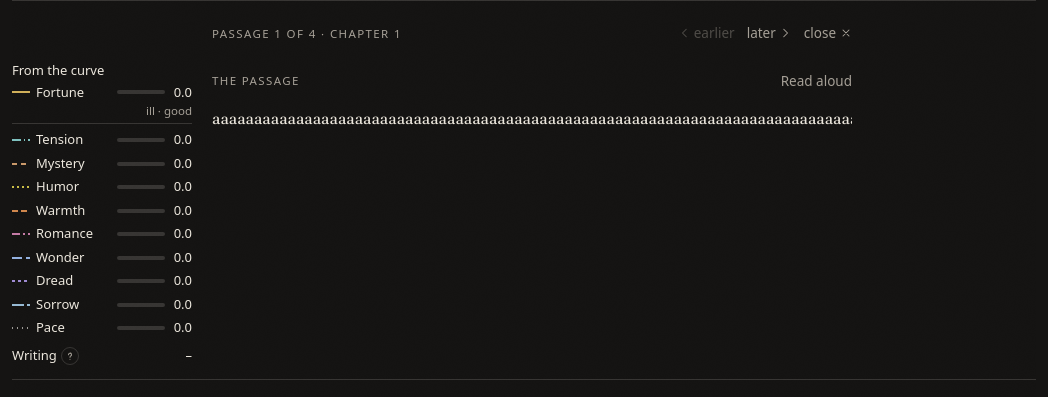
Test: a change in the passage's own controls does not write the text in again
Click the button "Read aloud": (816, 81) [781, 61, 852, 101]
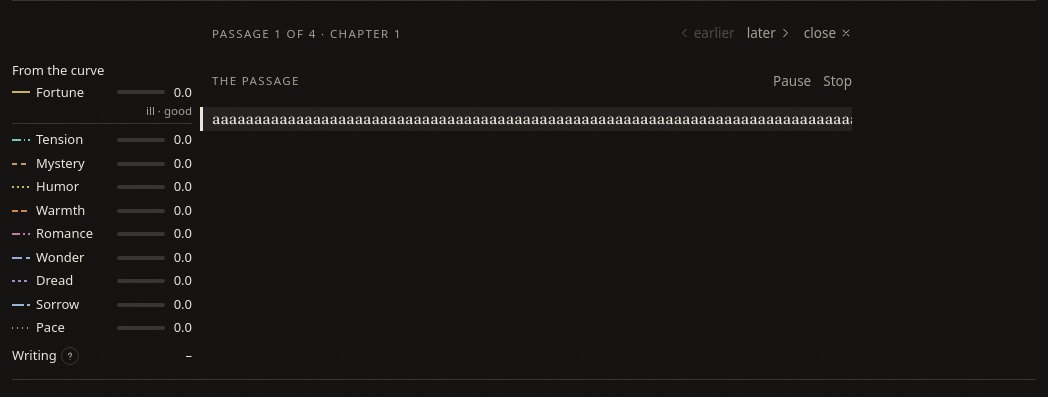
Result: the button "Pause" is shown at [773, 61, 811, 101]
